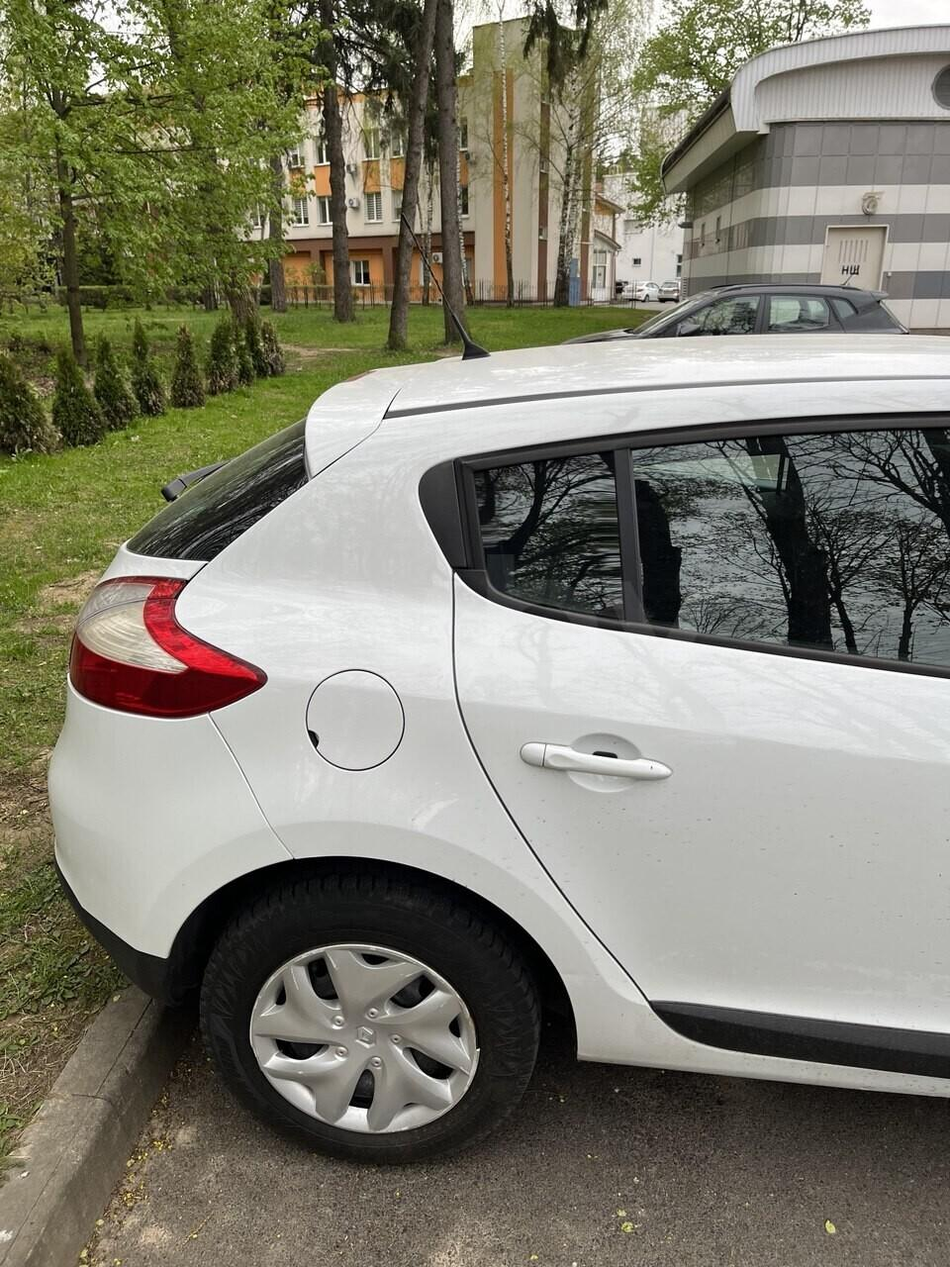Megane_2012-2014: (41, 348, 950, 1161)
